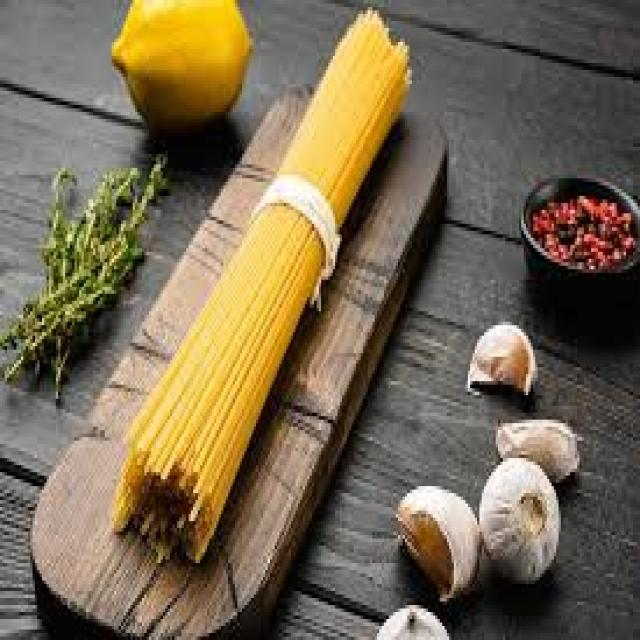Garlic: (385, 462, 487, 615), (469, 442, 569, 592), (454, 302, 544, 421), (492, 416, 592, 481)
Lemon: (102, 0, 272, 126)
Pasta: (124, 15, 413, 573)
